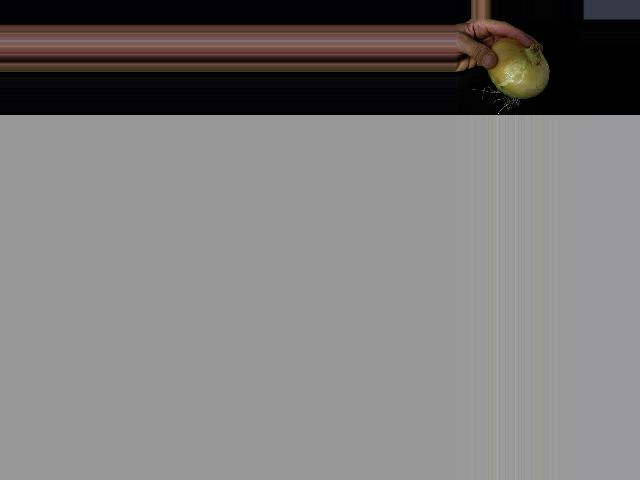onion: (488, 36, 548, 100)
